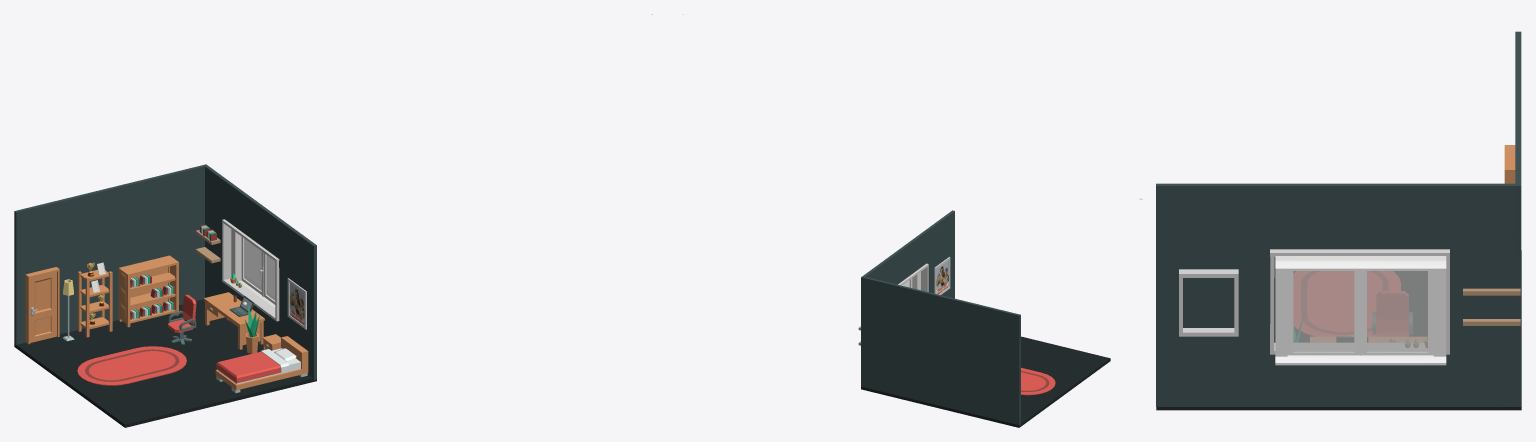
File: room.gltf
3 renders of one model, left to right at view 1: azimuth 30°, elevation 25°; view 2: azimuth 150°, elevation 25°; view 3: azimuth 270°, elevation 25°, orthographic. The views are drawn at different scales.
Visible parts, largest first — view 1: Plane.001, Plane.003, Plane.002, rugRounded, bedSingle, bookcaseClosedWide, doorway, bookcaseOpen, desk, Object_7, chairDesk, Object_2; view 2: Plane.001, Plane.003, Plane.002, rugRounded; view 3: Plane.002, Object_7, Object_3, rugRounded, Plane.003, Object_5, Plane.001, chairDesk, Plane.004, Plane, Object_2, Plane.011 (+7 smaller).
Part boxes in pixels (x1,y1,x2,y2): Plane.001: [14, 164, 207, 345]; Plane.003: [14, 299, 316, 427]; Plane.002: [205, 165, 316, 379]; rugRounded: [77, 346, 186, 385]; bedSingle: [215, 336, 308, 393]; bookcaseClosedWide: [118, 255, 178, 327]; doorway: [25, 267, 59, 344]; bookcaseOpen: [77, 269, 112, 337]; desk: [204, 292, 264, 349]; Object_7: [244, 238, 275, 300]; chairDesk: [168, 294, 196, 344]; Object_2: [231, 229, 275, 307]; Plane.001: [861, 276, 1020, 425]; Plane.003: [861, 336, 1110, 427]; Plane.002: [861, 210, 954, 355]; rugRounded: [1021, 367, 1055, 395]; Plane.002: [1156, 183, 1521, 406]; Object_7: [1293, 271, 1427, 351]; Object_3: [1275, 260, 1446, 365]; rugRounded: [1293, 271, 1400, 336]; Plane.003: [1156, 250, 1521, 410]; Object_5: [1287, 271, 1433, 355]; Plane.001: [1515, 31, 1521, 394]; chairDesk: [1372, 291, 1412, 336]; Plane.004: [1270, 249, 1449, 256]; Plane: [1270, 342, 1449, 354]; Object_2: [1275, 256, 1446, 260]; Plane.011: [1179, 269, 1238, 277].
Bounding box in the file's own units: 8.19 × 4.32 × 3.14.
100 materials, 2 textured.
